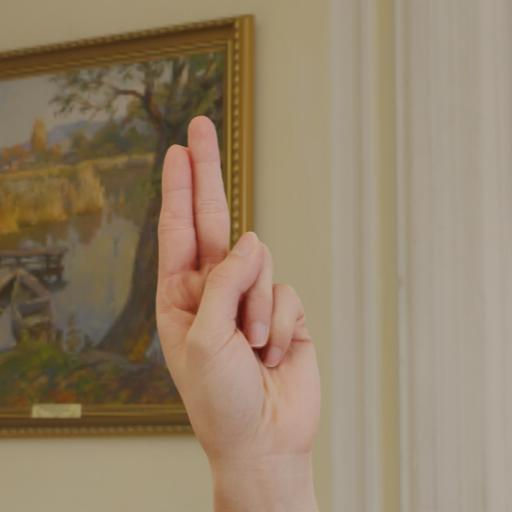U: (147, 101, 321, 458)
